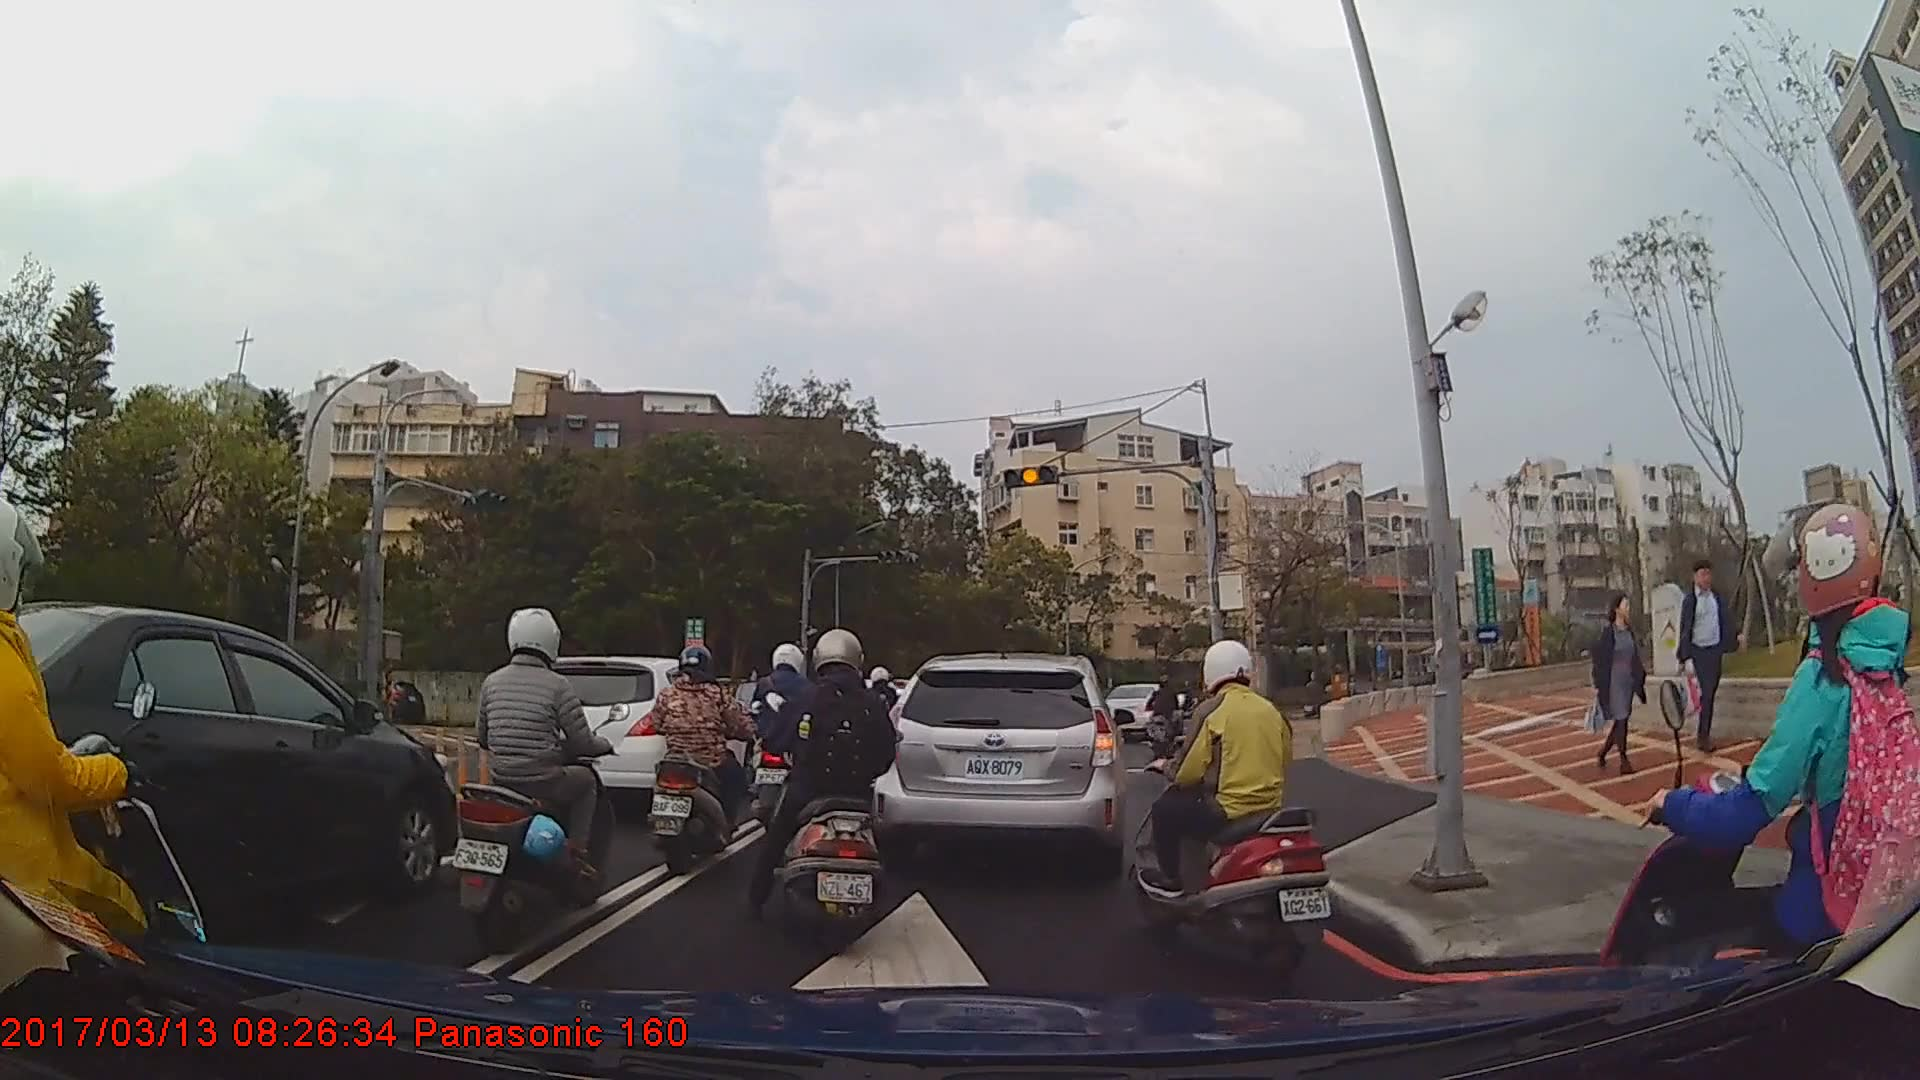pedestrian: (1577, 592, 1650, 780), (1674, 560, 1737, 753)
rider: (1608, 501, 1897, 1074), (1, 495, 213, 1068), (1129, 641, 1333, 979), (448, 607, 619, 952), (756, 630, 901, 957), (647, 646, 758, 874), (744, 638, 831, 842), (1145, 674, 1178, 759)
vehicle: (0, 601, 458, 947), (875, 652, 1128, 870), (519, 655, 760, 817), (1100, 681, 1183, 745), (354, 680, 424, 726)
